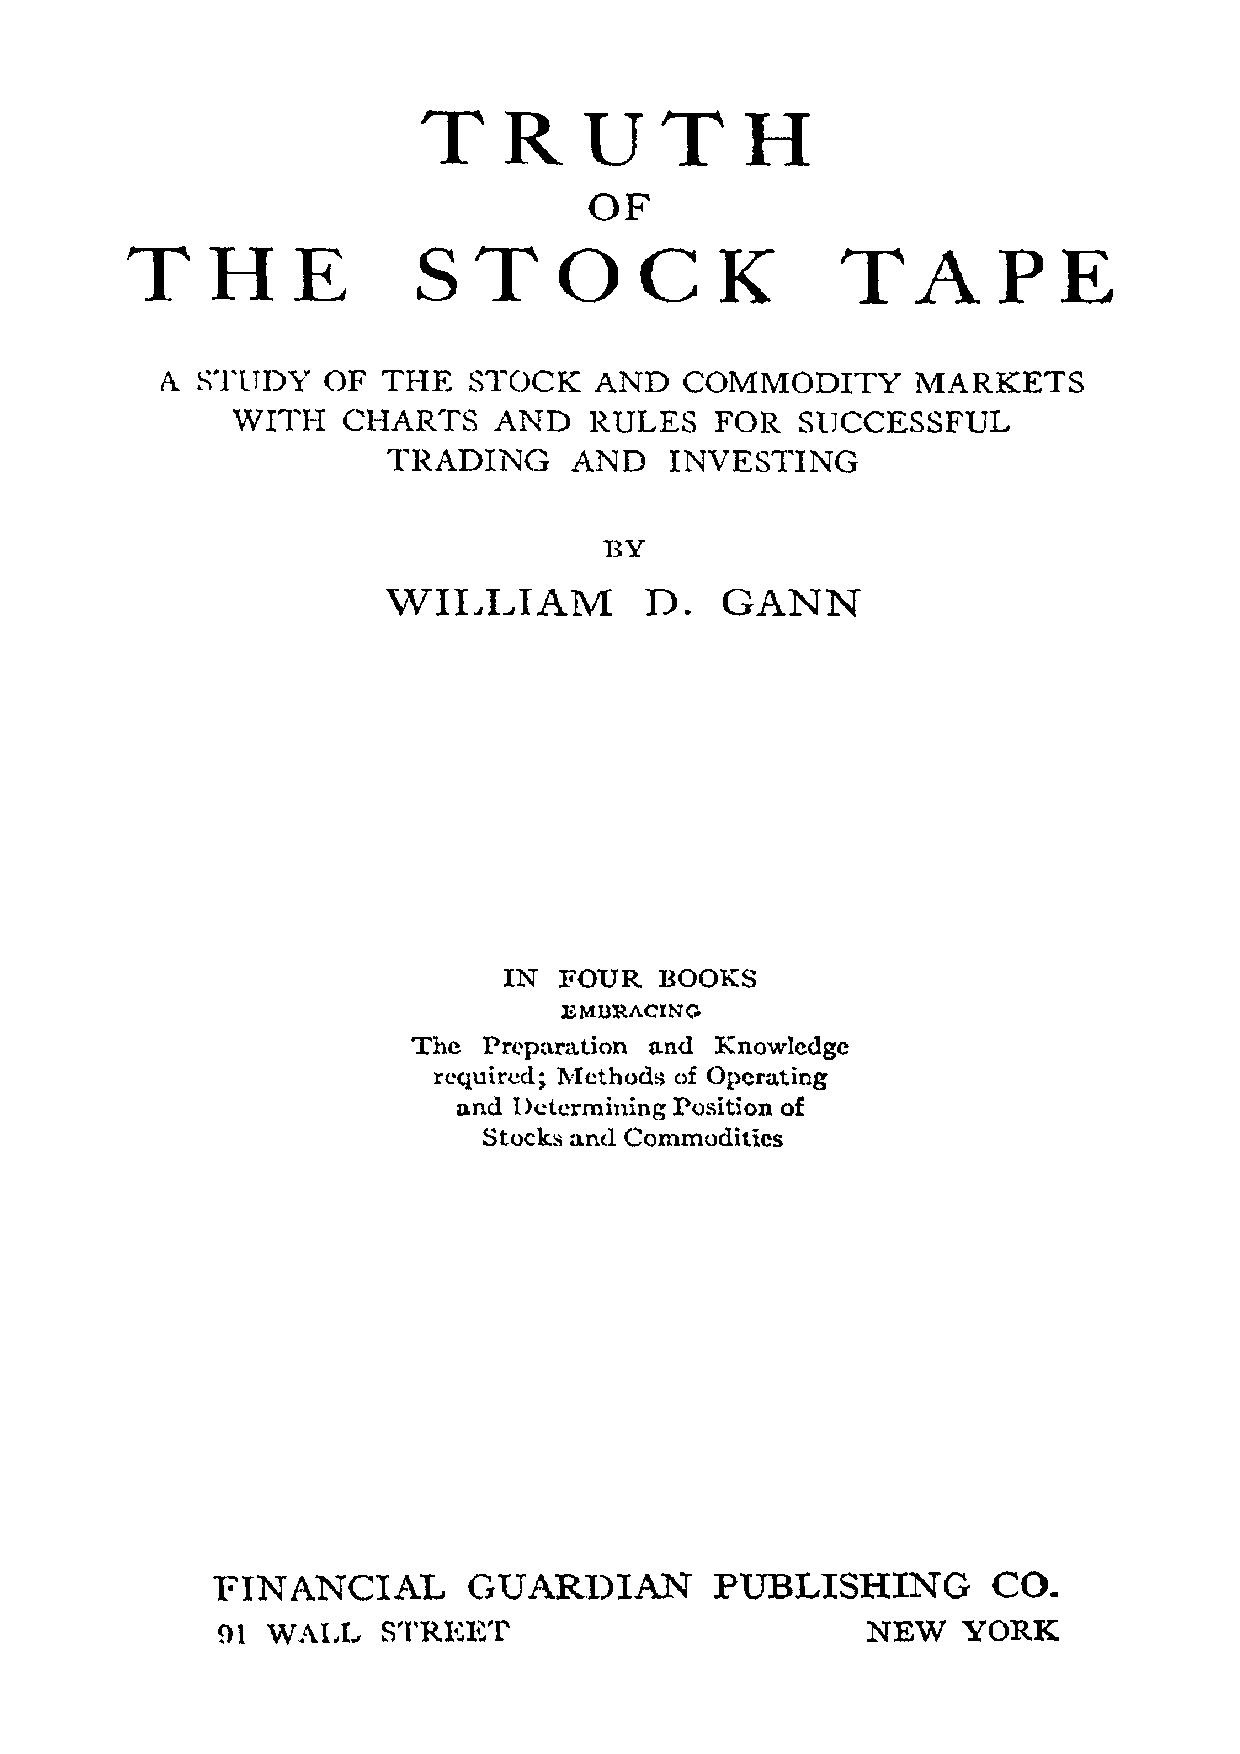author: (378, 537, 860, 620)
title: (123, 107, 1117, 309)
